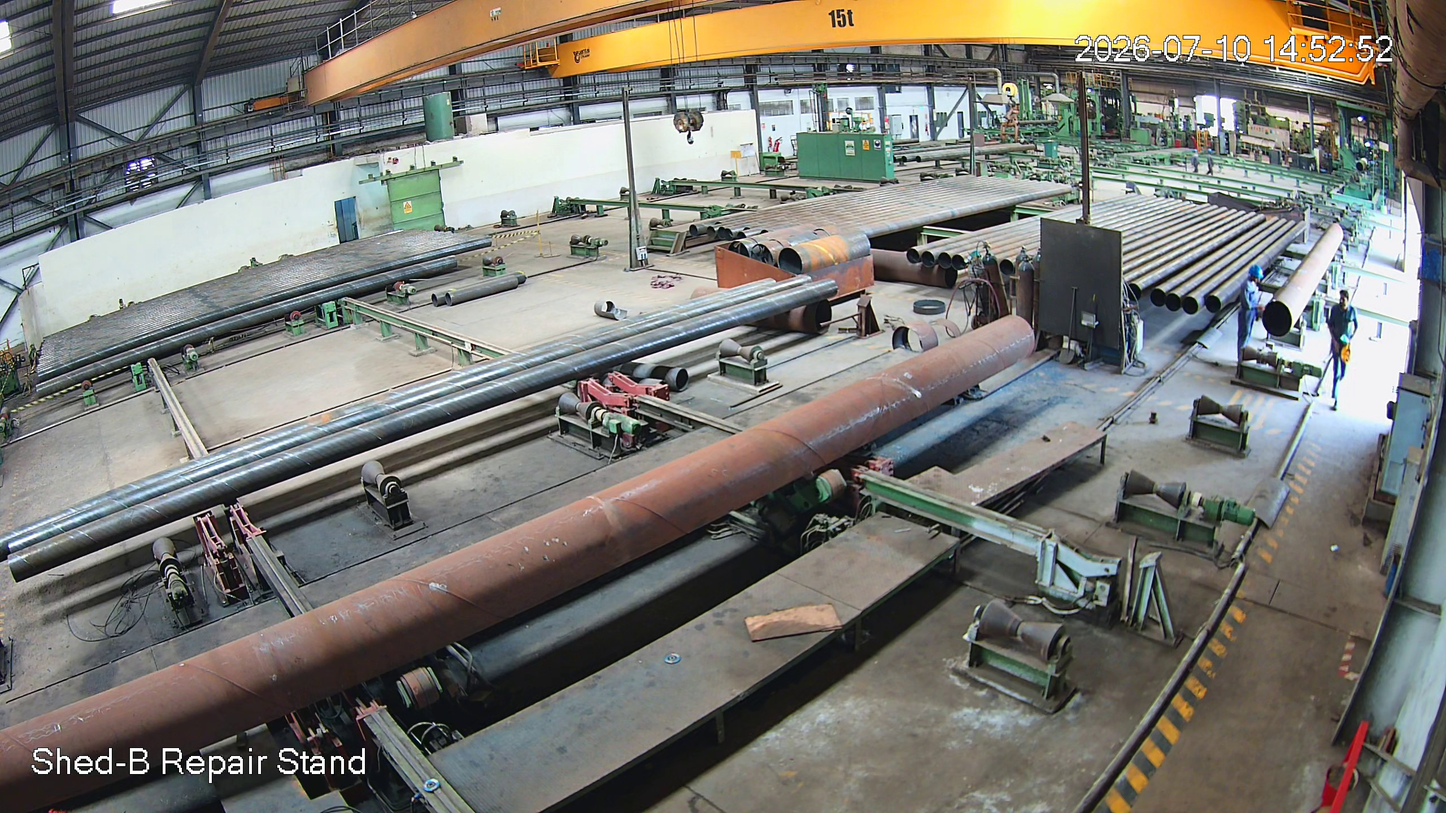Helmet: (1244, 260, 1267, 293)
Person: (1231, 263, 1270, 371), (1323, 288, 1356, 406)
